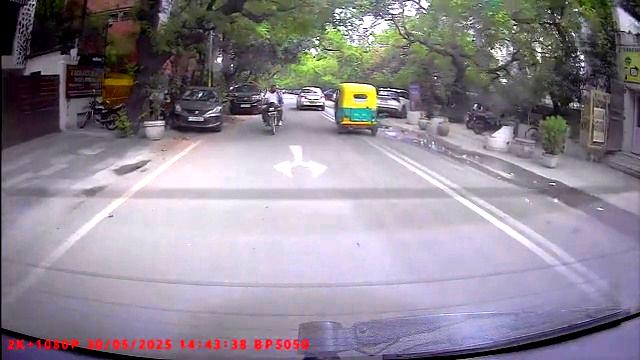motorcycle_without_helmet: (260, 83, 286, 137)
